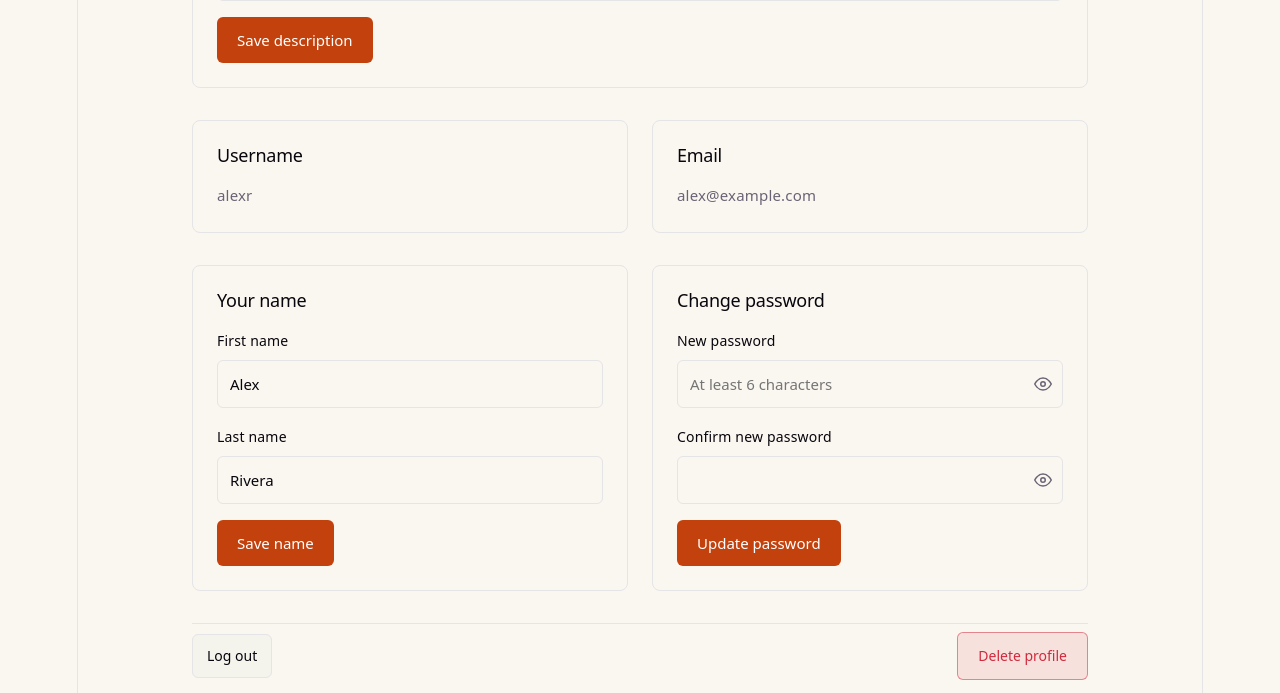
Scenario: Profile › validates the new password before submitting
The image size is (1280, 693).
(page scrolled)
In the password field labelled "New password": (870, 384) [677,360,1063,408], type "short"
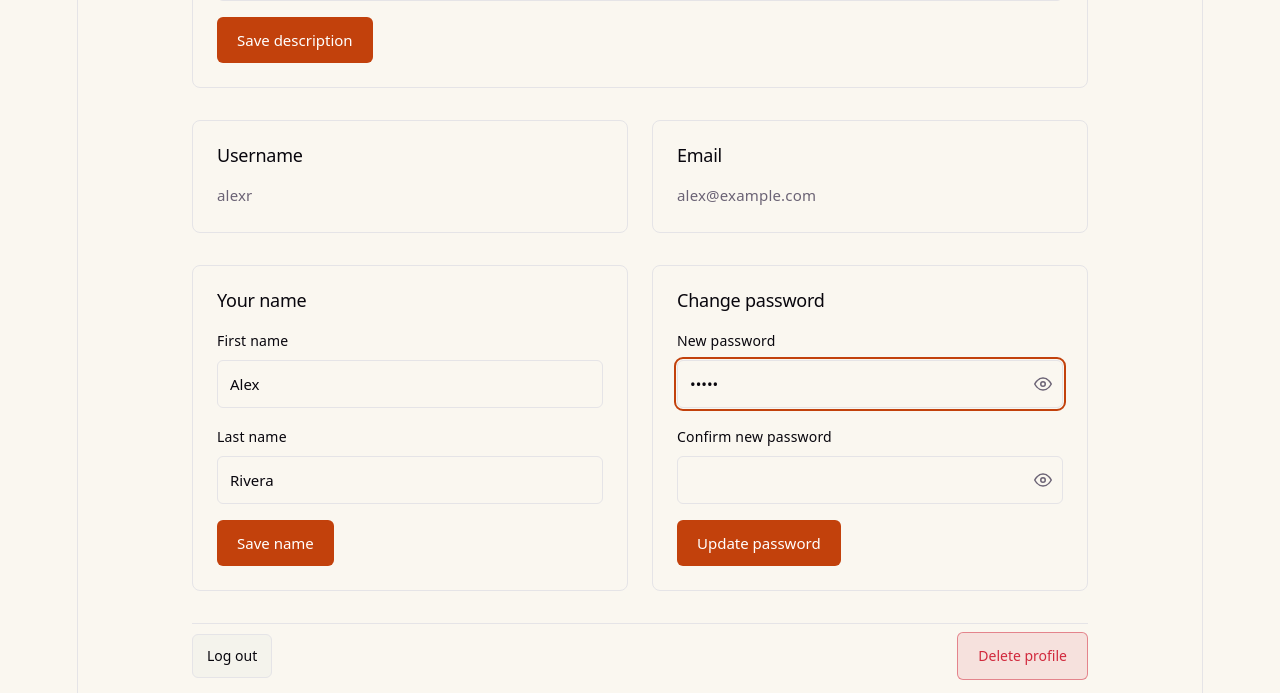
In the password field labelled "Confirm new password": (870, 480) [677,456,1063,504], type "short"
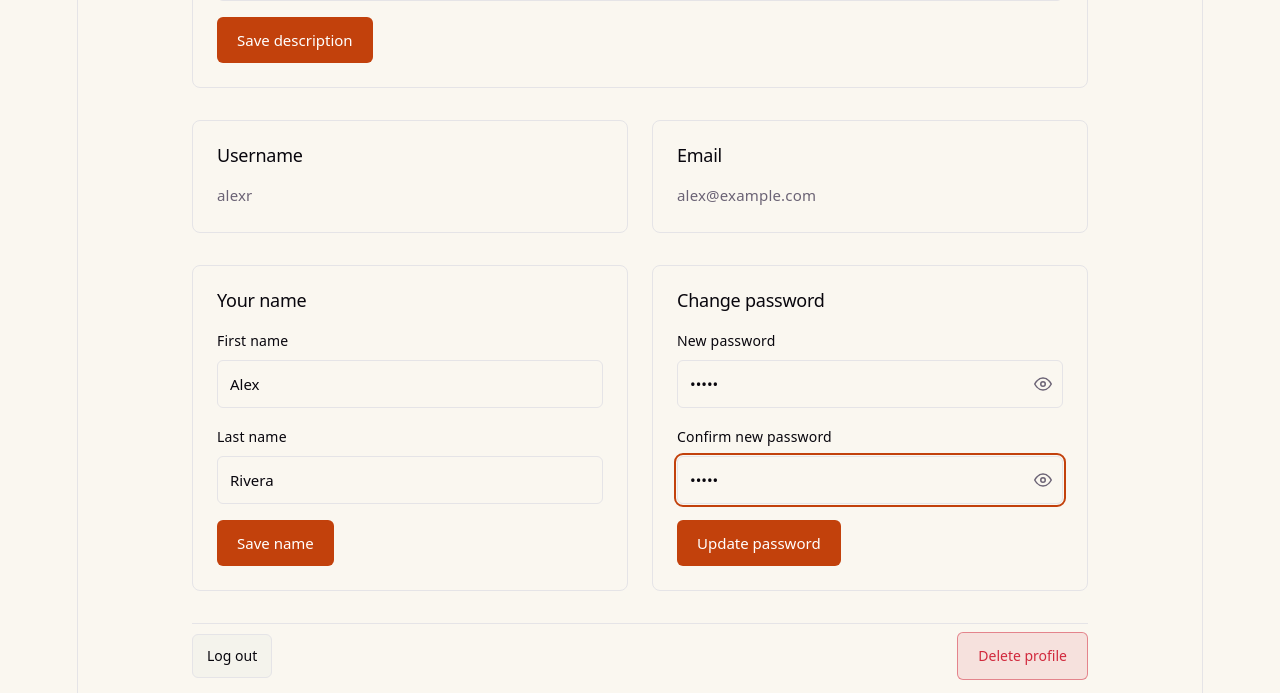
Click the button "Update password": (759, 543) [677,520,841,566]
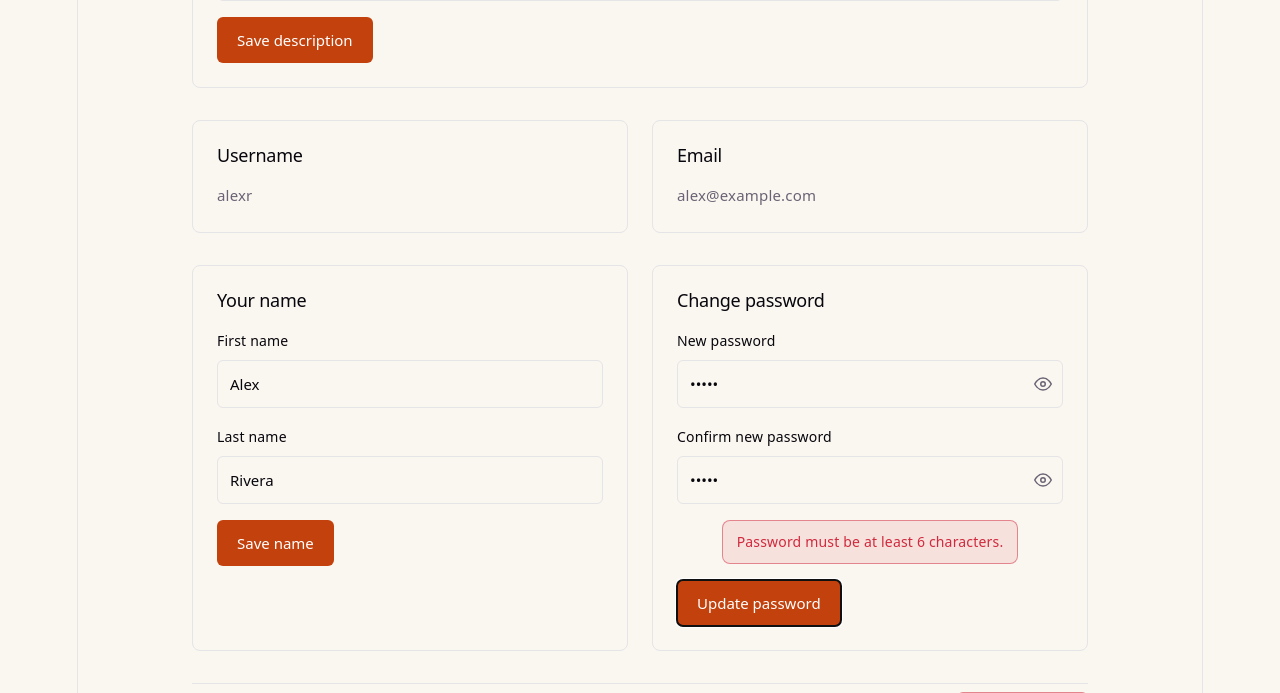
Now the text "Password must be at least 6 characters." is shown, box [722,520,1018,564]
